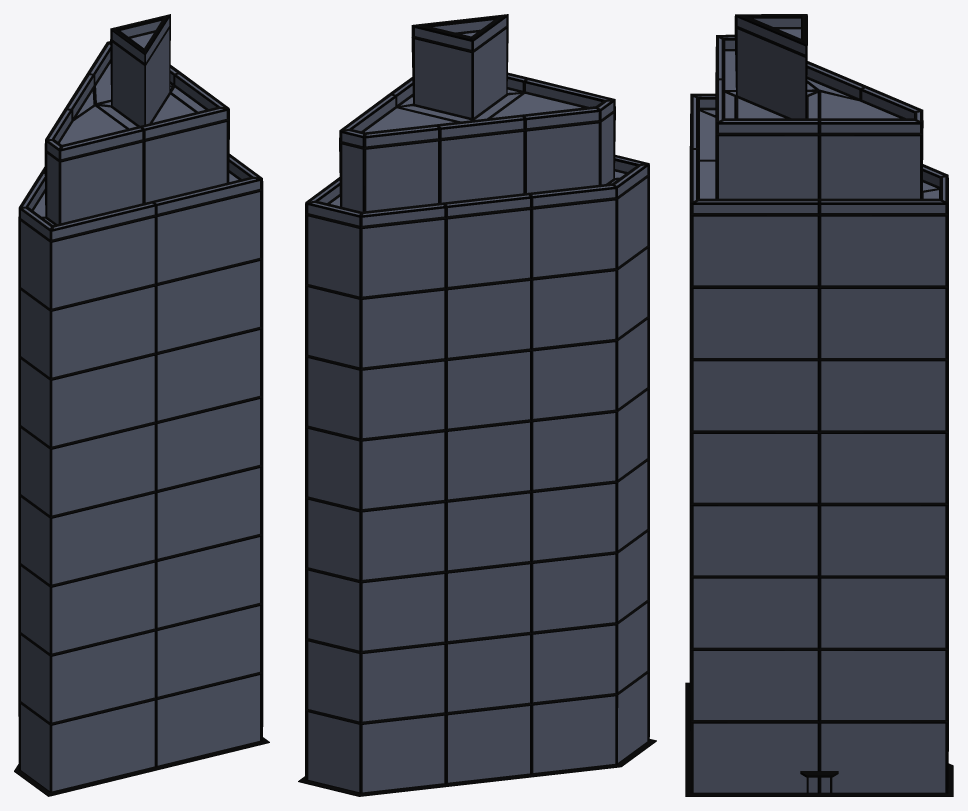
File: SM_BuildingTriangle_1.fbx
3 views of the same model, side by side, from view 1: azimuth 30°, elevation 25°; view 2: azimuth 150°, elevation 25°; view 3: azimuth 270°, elevation 25° (orthographic). The views are drawn at different scales.
Visible parts, largest first — view 1: MainStructure, MainStructure.001, BottomTrim; view 2: MainStructure, MainStructure.001, BottomTrim; view 3: MainStructure, MainStructure.001, BottomTrim.
Part boxes in pixels (box(x1,y1,x2,y2)): MainStructure: box(21, 18, 259, 791); MainStructure.001: box(18, 14, 263, 792); BottomTrim: box(14, 737, 269, 796); MainStructure: box(308, 18, 647, 792); MainStructure.001: box(305, 14, 649, 793); BottomTrim: box(298, 739, 656, 796); MainStructure: box(693, 18, 945, 792); MainStructure.001: box(689, 14, 948, 793); BottomTrim: box(685, 682, 953, 796).
Size of the model in its own units: 2130 by 6330 by 2100.
